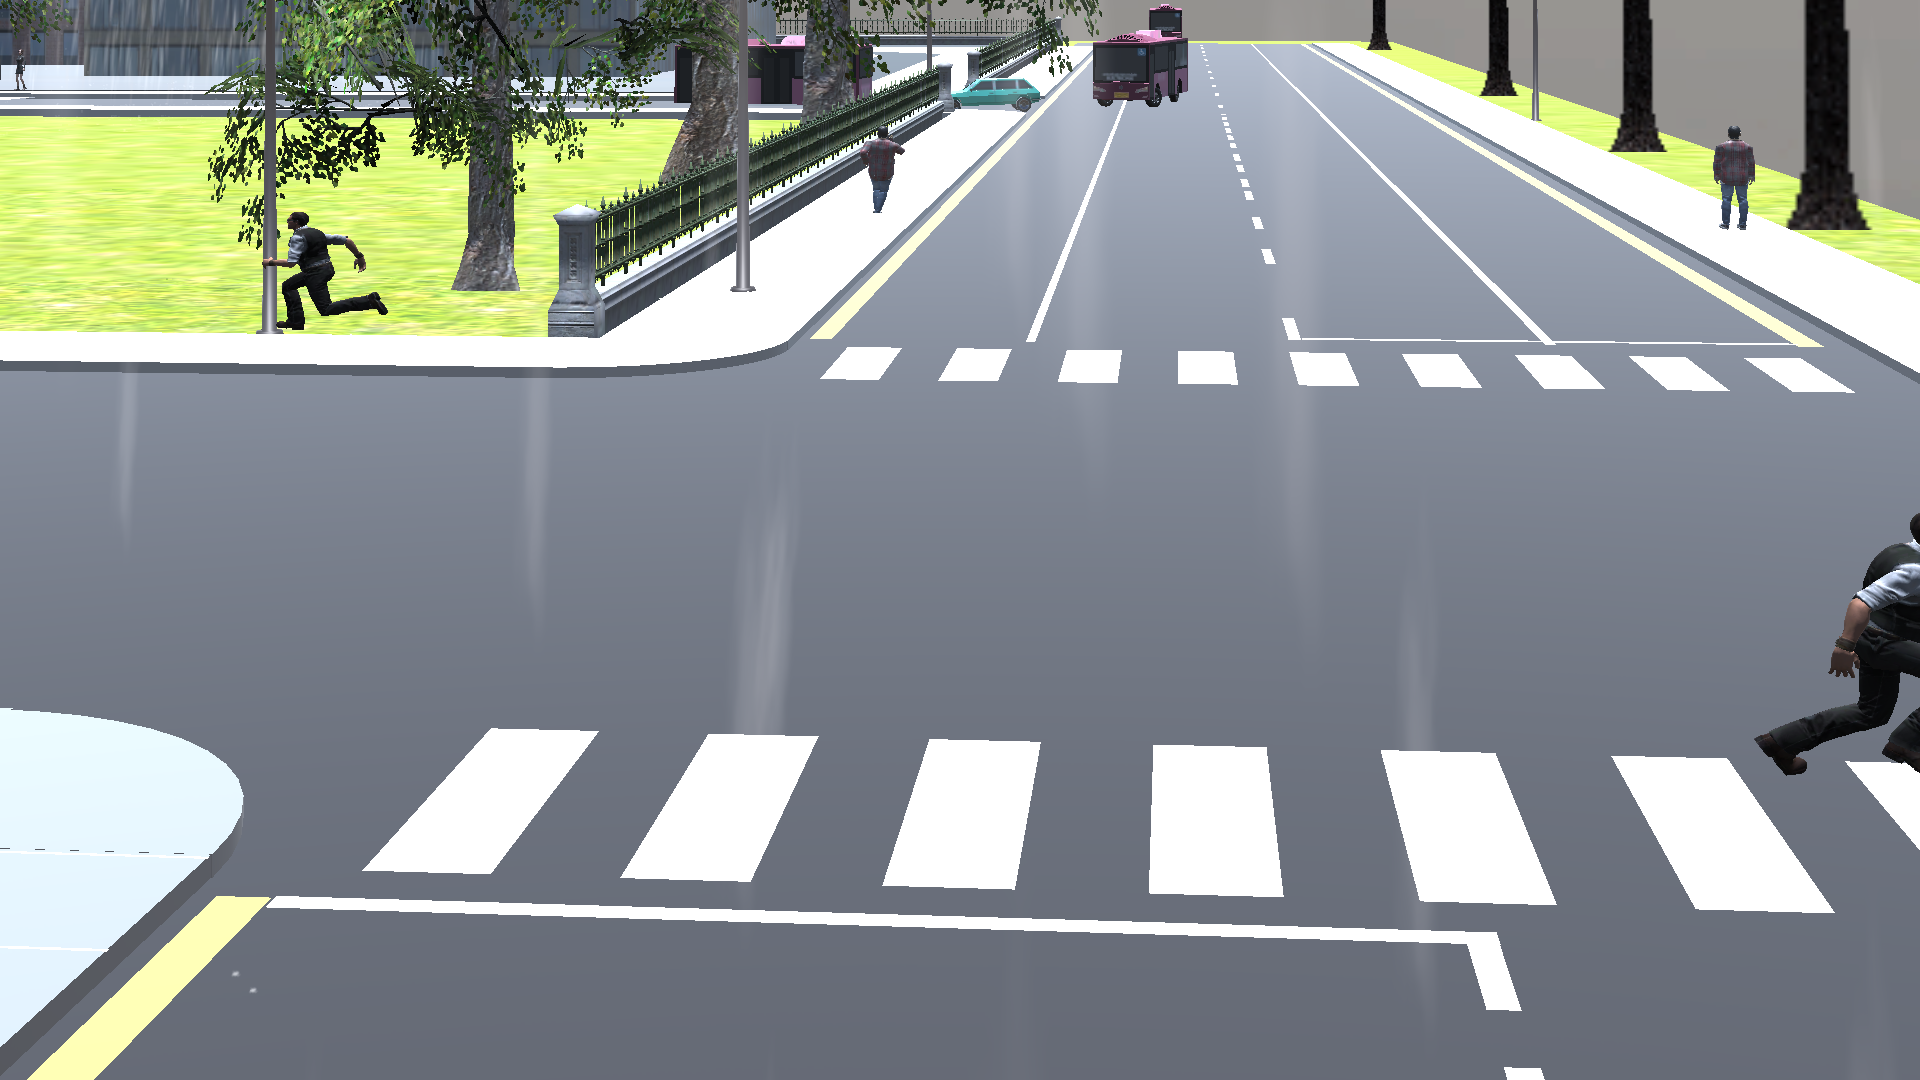pedestrian: (1759, 508, 1920, 784), (270, 212, 401, 336), (1706, 115, 1755, 231), (858, 124, 906, 215)
